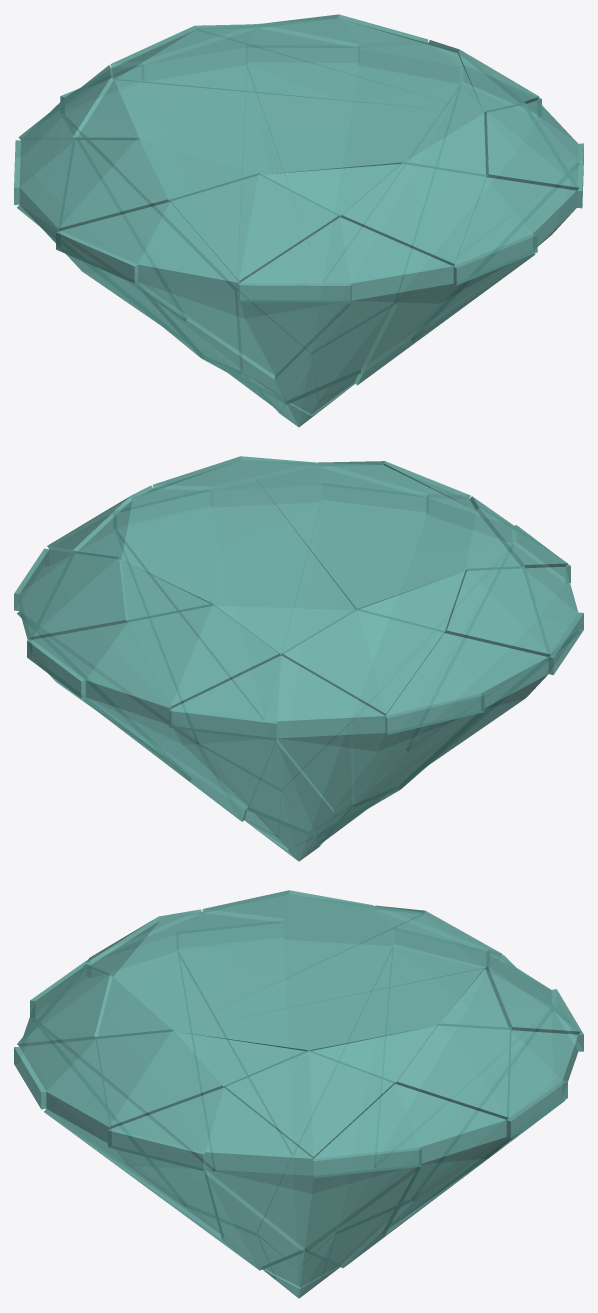
Rendered from obj_daiya.fbx.
3 views of the same model, one above another, from view 1: azimuth 30°, elevation 25°; view 2: azimuth 150°, elevation 25°; view 3: azimuth 270°, elevation 25° (orthographic).
Parts seen in each view (by area): view 1: pCylinder1; view 2: pCylinder1; view 3: pCylinder1.
Part boxes in pixels (x1,y1,x2,y2): pCylinder1: [14, 14, 583, 427]; pCylinder1: [14, 456, 583, 861]; pCylinder1: [14, 890, 583, 1298].
Size of the model in its own units: 10.24 by 6.52 by 10.24.
